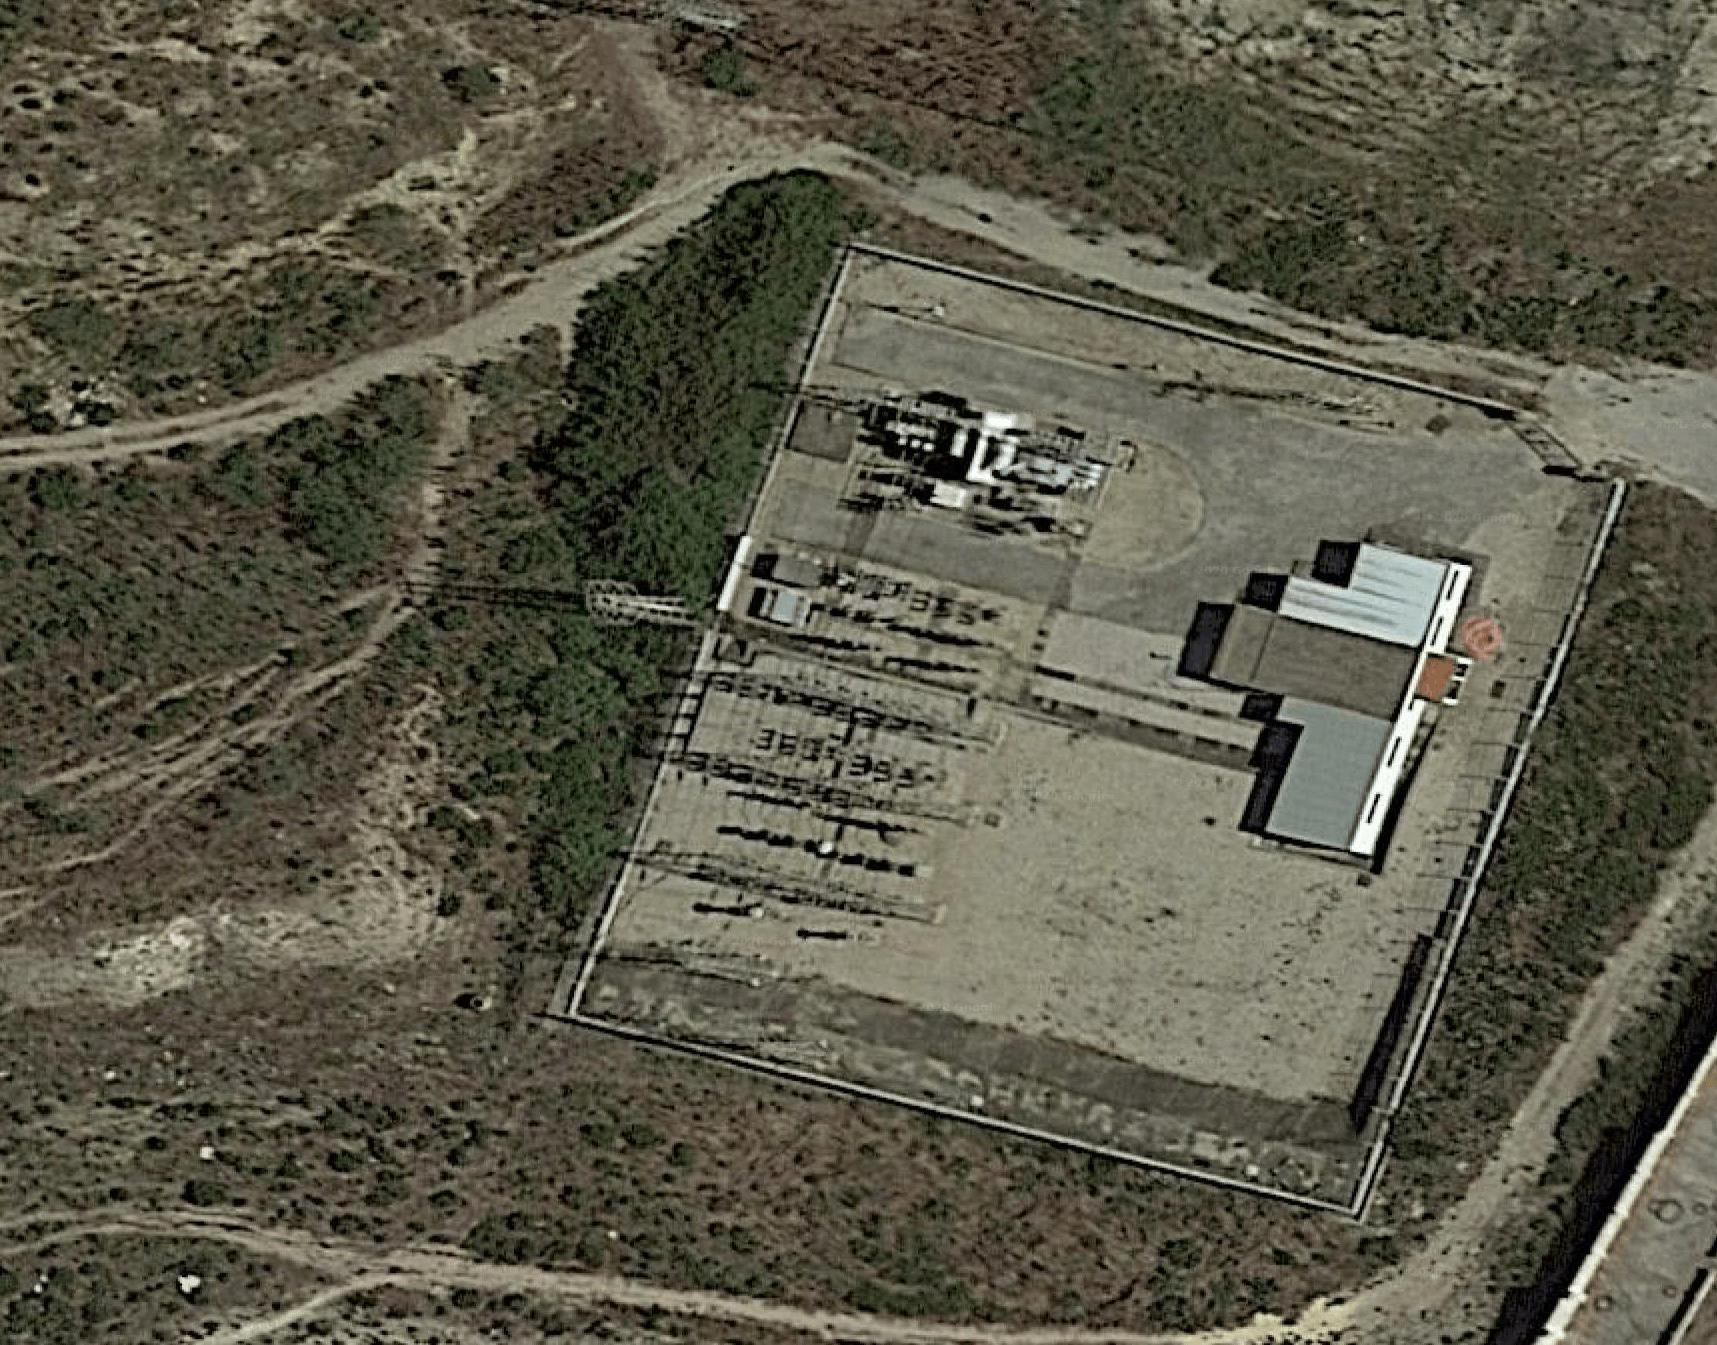substation: (605, 378, 1146, 966)
